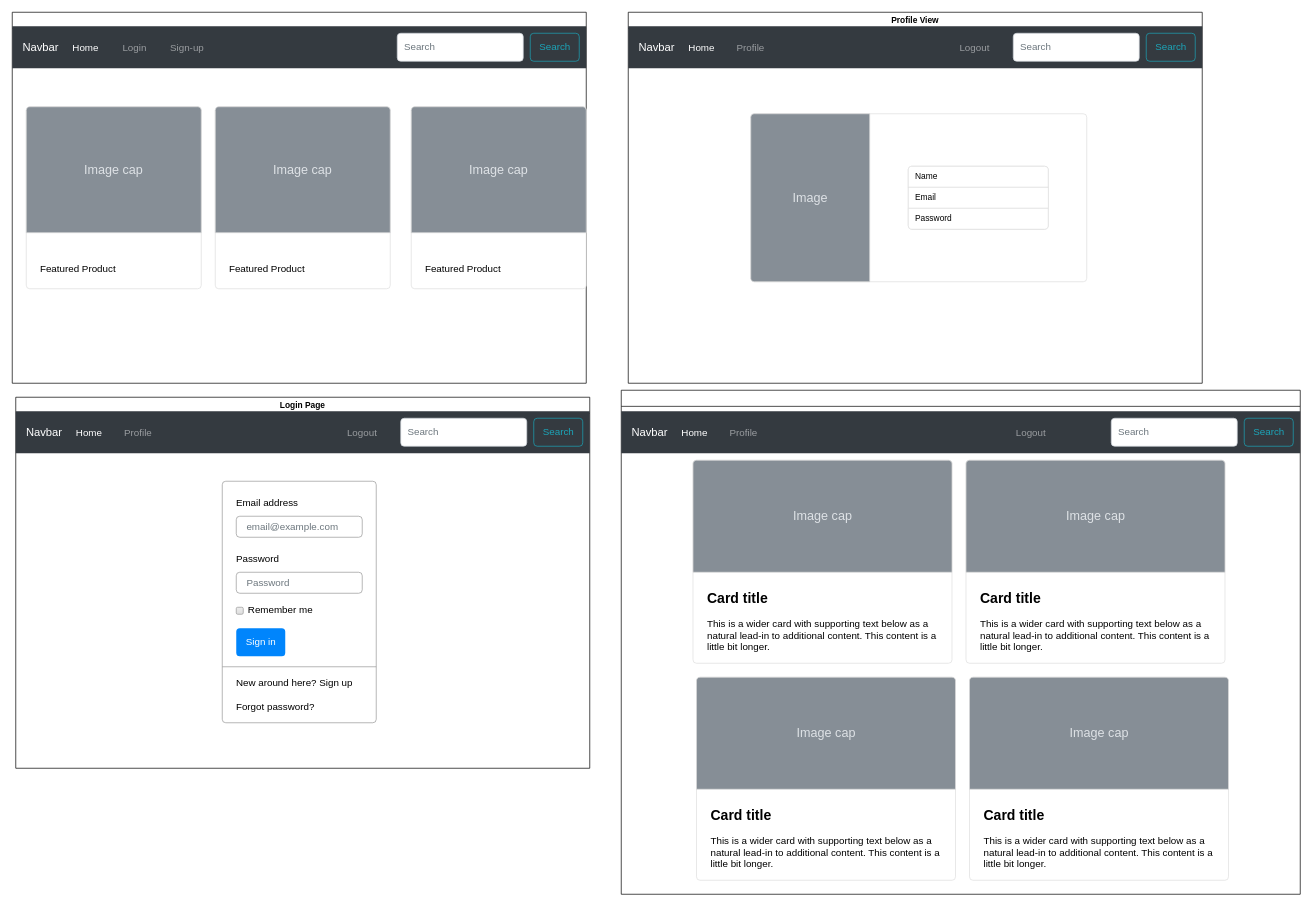
The diagram is 1313 pixels wide and 907 high, and some of its shapes have lost their labels. The box of each missing label's shape, as (x1, y1, x2, y2) in pixels:
Cart view: (621, 390, 1300, 894)
Home Page: (12, 12, 586, 383)
